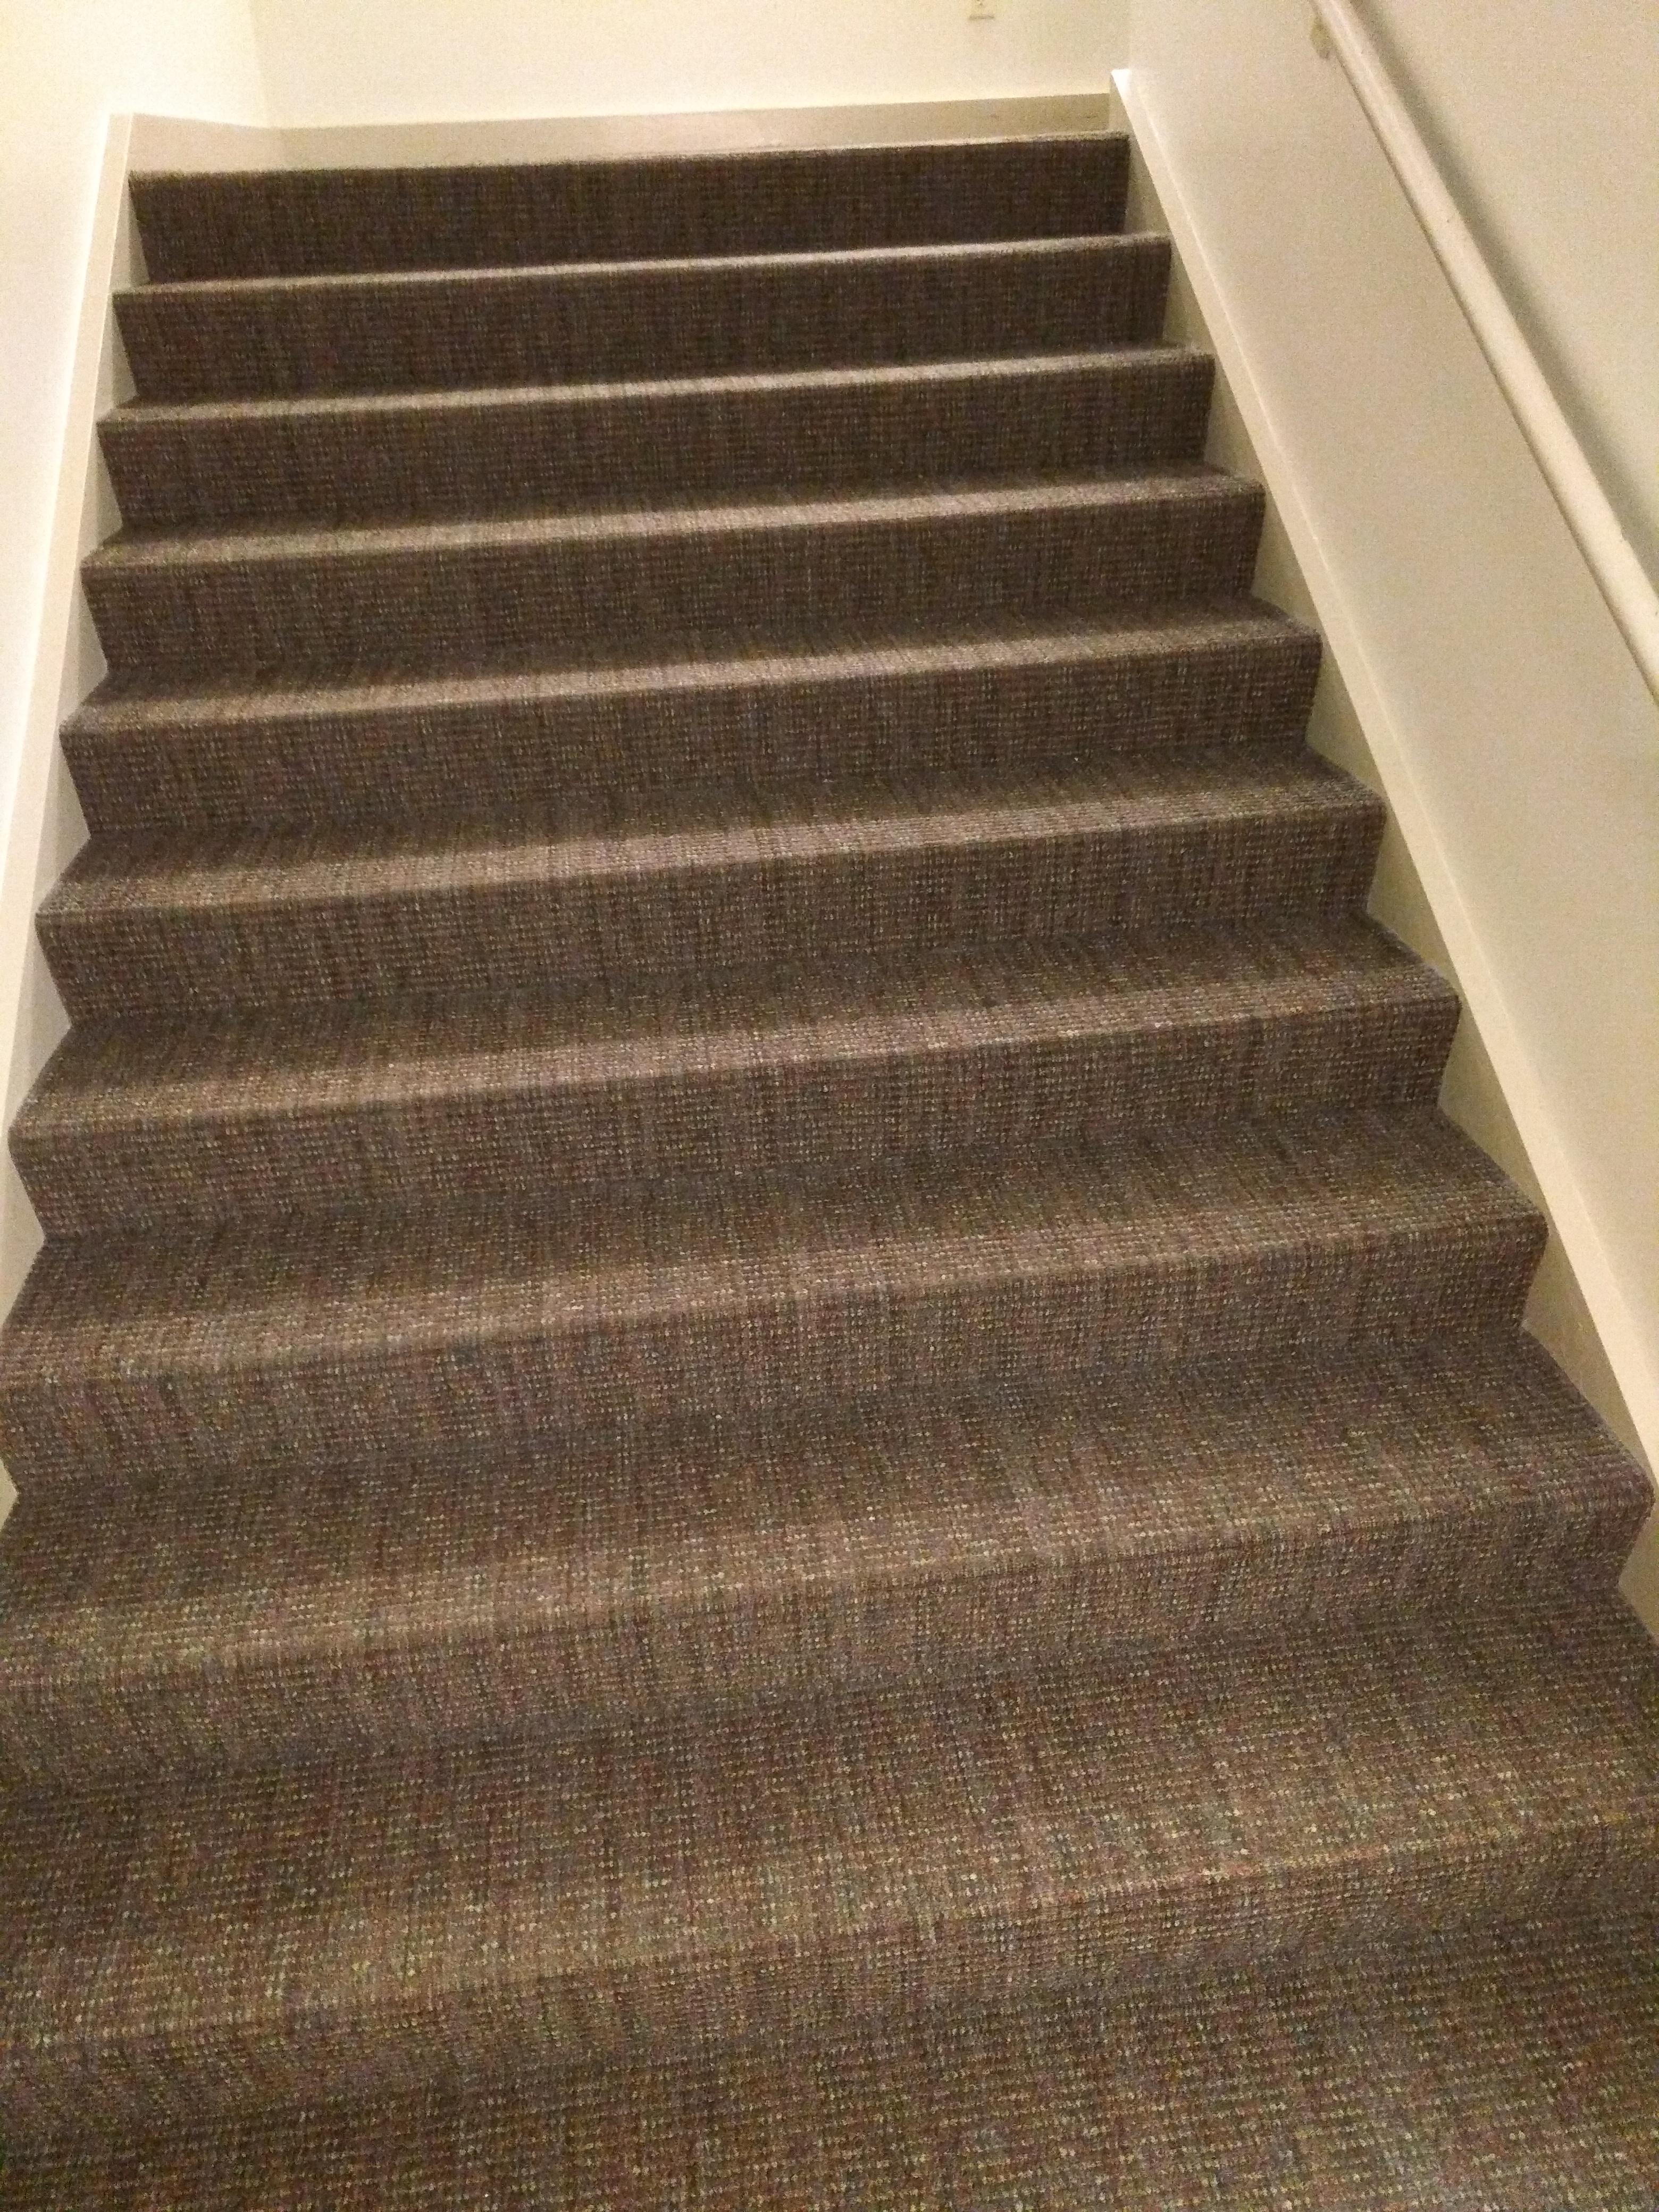stairs_up: (10, 106, 1659, 2101)
